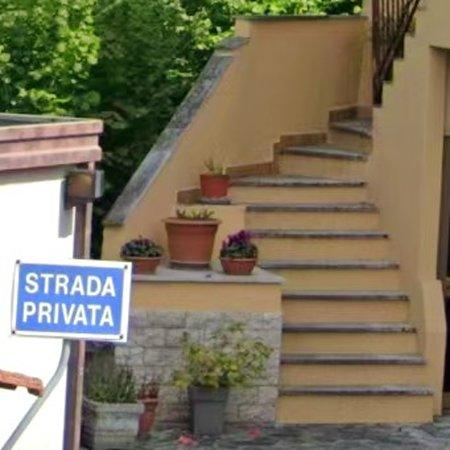stairs: (229, 106, 434, 423)
